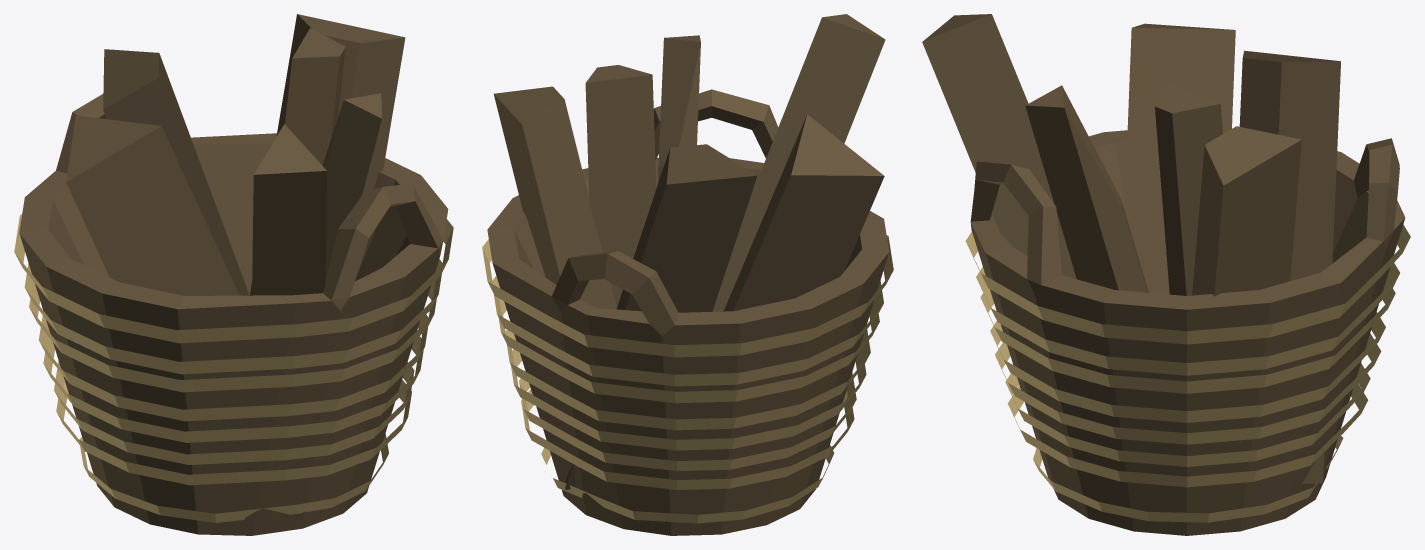
Rendered from EA03_Prop_Tool_Basket_01.glb.
3 renders of one model, left to right at view 1: azimuth 30°, elevation 25°; view 2: azimuth 150°, elevation 25°; view 3: azimuth 270°, elevation 25°, orthographic. The views are drawn at different scales.
Visible parts, largest first — view 1: EA03_Prop_Tool_Basket_01; view 2: EA03_Prop_Tool_Basket_01; view 3: EA03_Prop_Tool_Basket_01.
Boxes of the visible parts, x1,y1,x2,y2 form: EA03_Prop_Tool_Basket_01: (14,14,453,535); EA03_Prop_Tool_Basket_01: (482,14,893,535); EA03_Prop_Tool_Basket_01: (922,14,1410,535).
Size of the model in its own units: 0.6152 by 0.6684 by 0.6722.
Materials: 1 (1 with a texture image).
